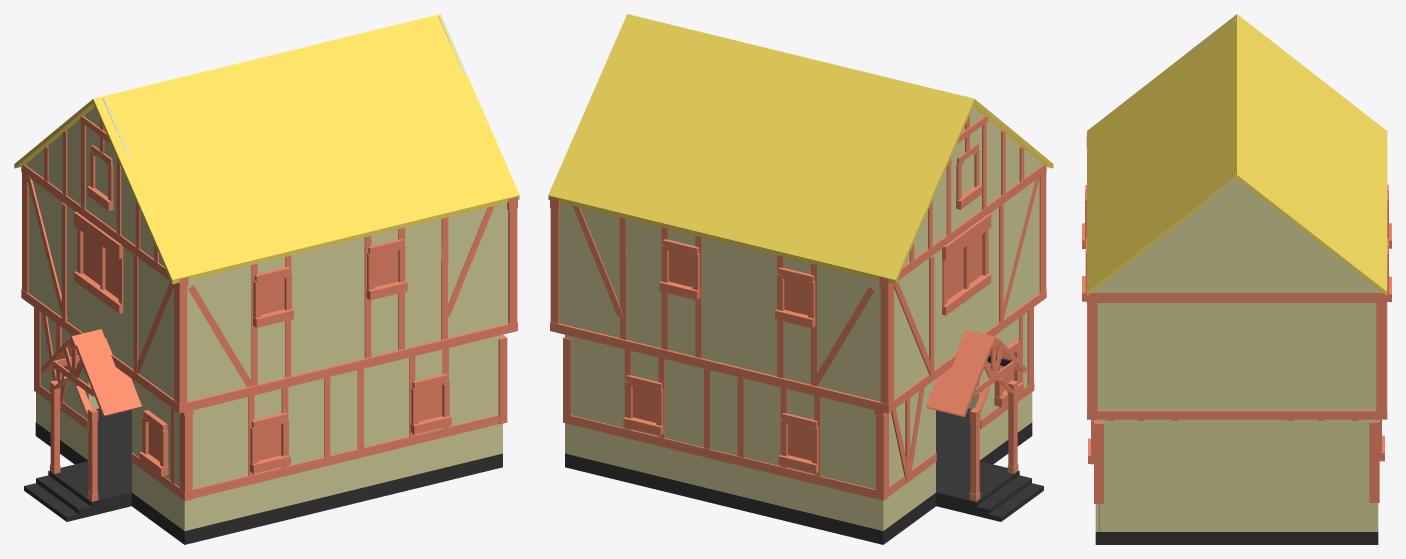
File: MainHouse.fbx
3 renders of one model, left to right at view 1: azimuth 30°, elevation 25°; view 2: azimuth 150°, elevation 25°; view 3: azimuth 270°, elevation 25°, orthographic. The views are drawn at different scales.
Visible parts, largest first — view 1: Base.001; view 2: Base.001; view 3: Base.001.
Boxes of the visible parts, x1,y1,x2,y2 form: Base.001: (14, 14, 519, 544); Base.001: (548, 14, 1053, 544); Base.001: (1082, 14, 1391, 544).
Size of the model in its own units: 4332 by 4145 by 3100.
